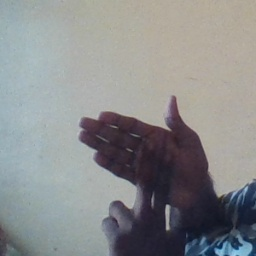N: (72, 94, 201, 244)
